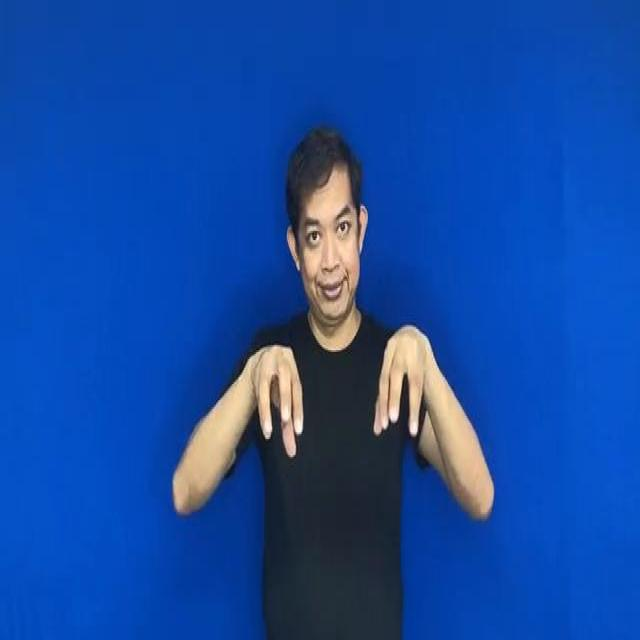egg: (236, 312, 446, 466)
